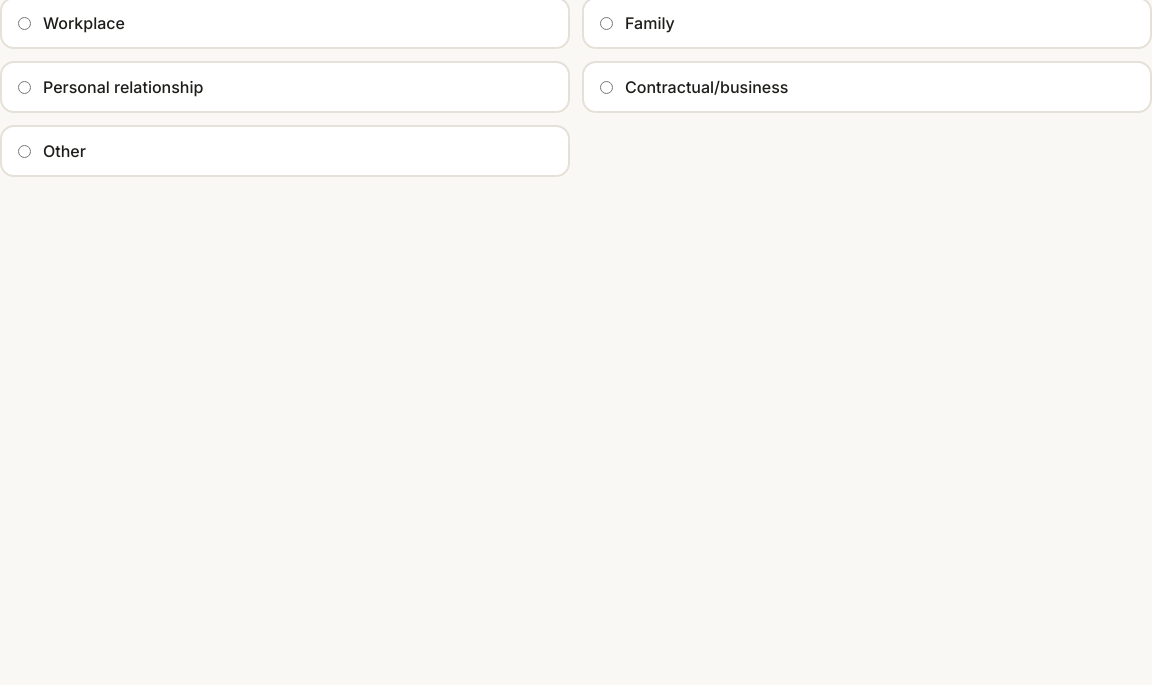
Test: AC5: Solo mode under Advanced expandable section › expanding Advanced reveals an unchecked solo checkbox
The width and height of the screenshot is (1152, 685).
Click the radio button labelled "Workplace".
click(24, 23)  # box [18,16,31,30]
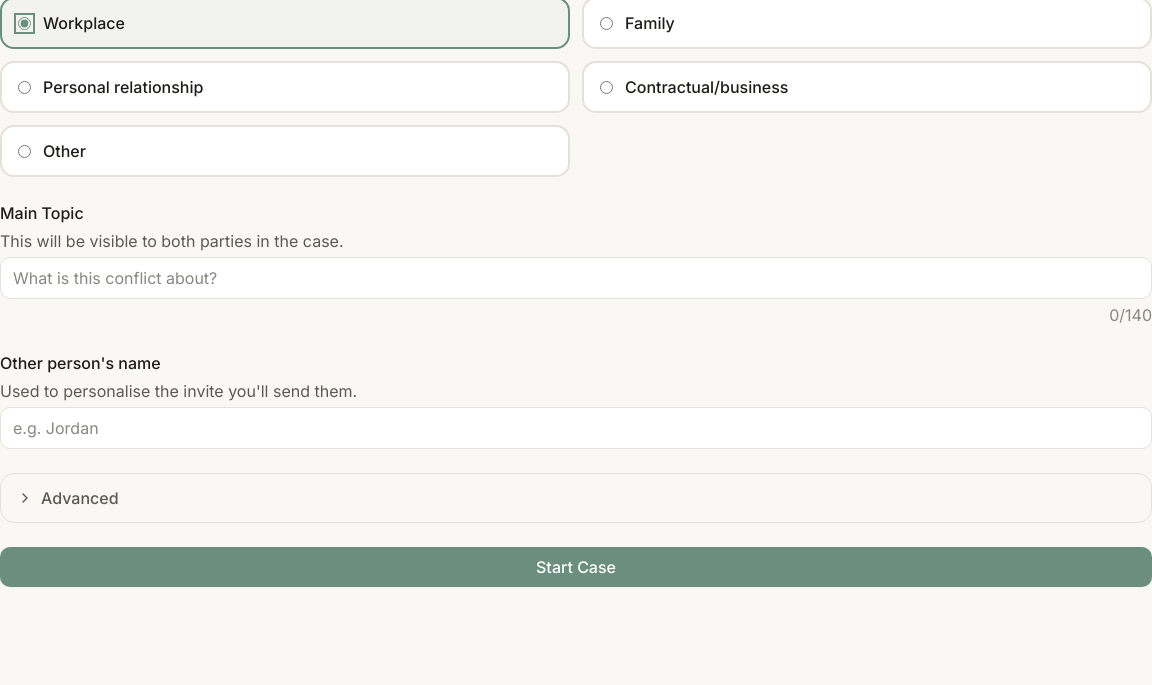
Type "Test topic" into the field labelled "Main Topic".
click(576, 278); type("Test topic")  # box [0,257,1151,299]
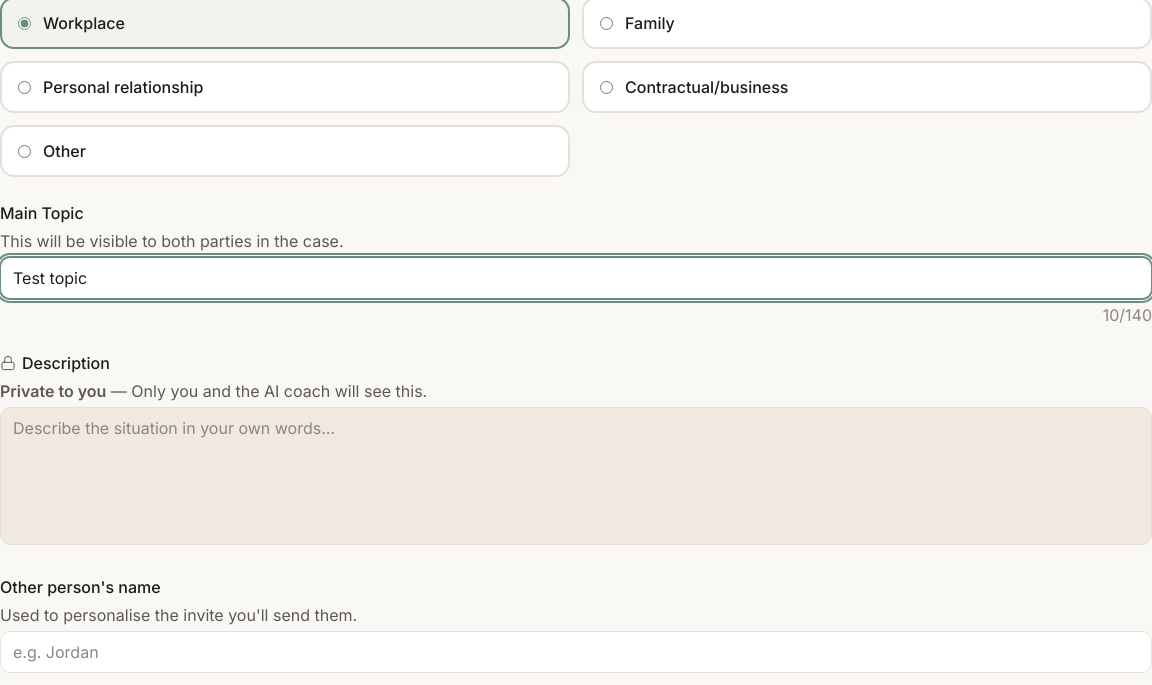
Type "Some description" into the text box labelled "Description".
click(576, 476); type("Some description")  # box [0,407,1151,545]
(page scrolled)
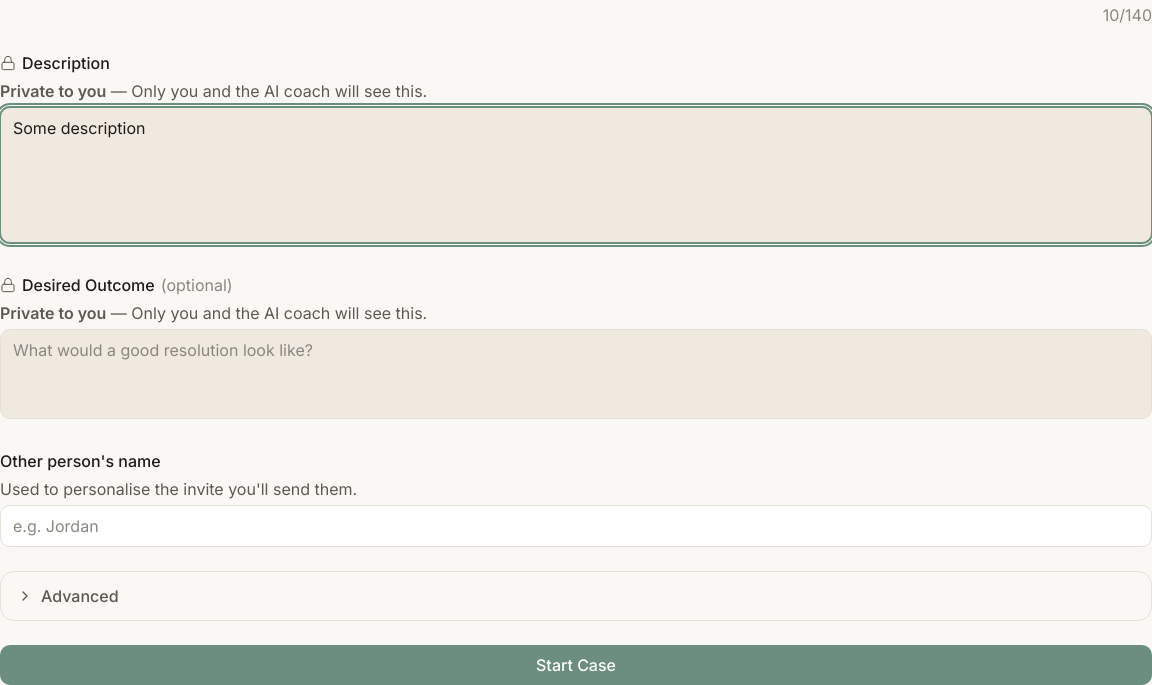
Type "Some outcome" into the text box labelled "Desired Outcome (optional)".
click(576, 374); type("Some outcome")  # box [0,329,1151,419]
(page scrolled)
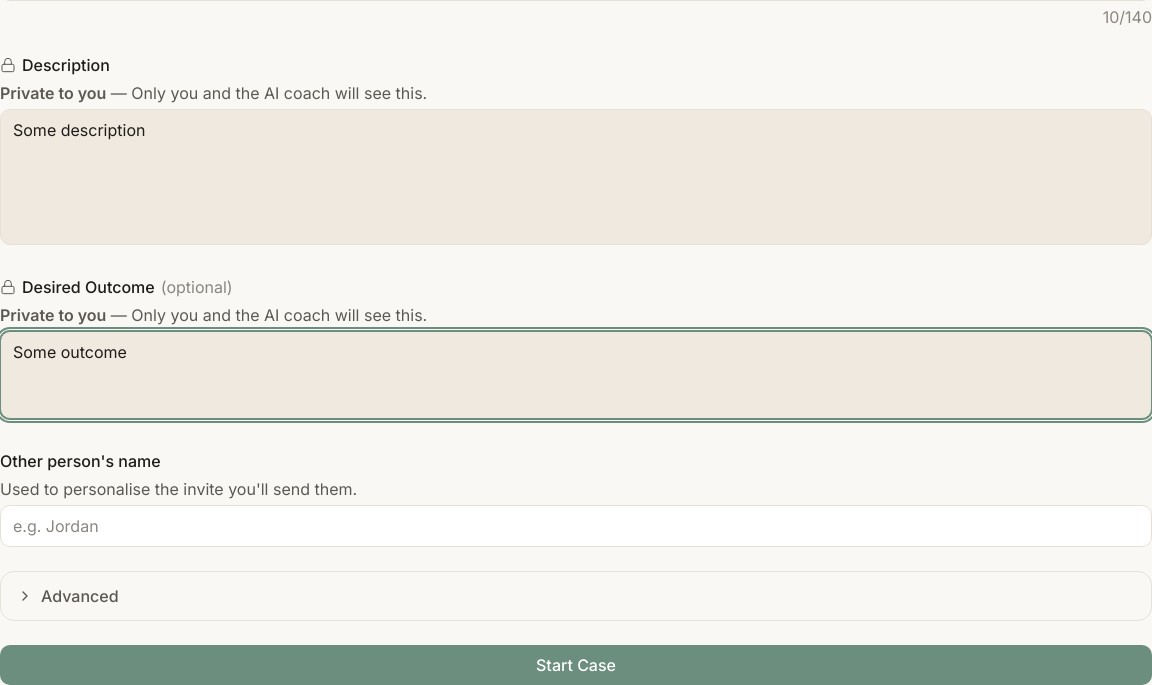
Click the button "Advanced".
click(80, 596)  # box [1,572,1151,620]
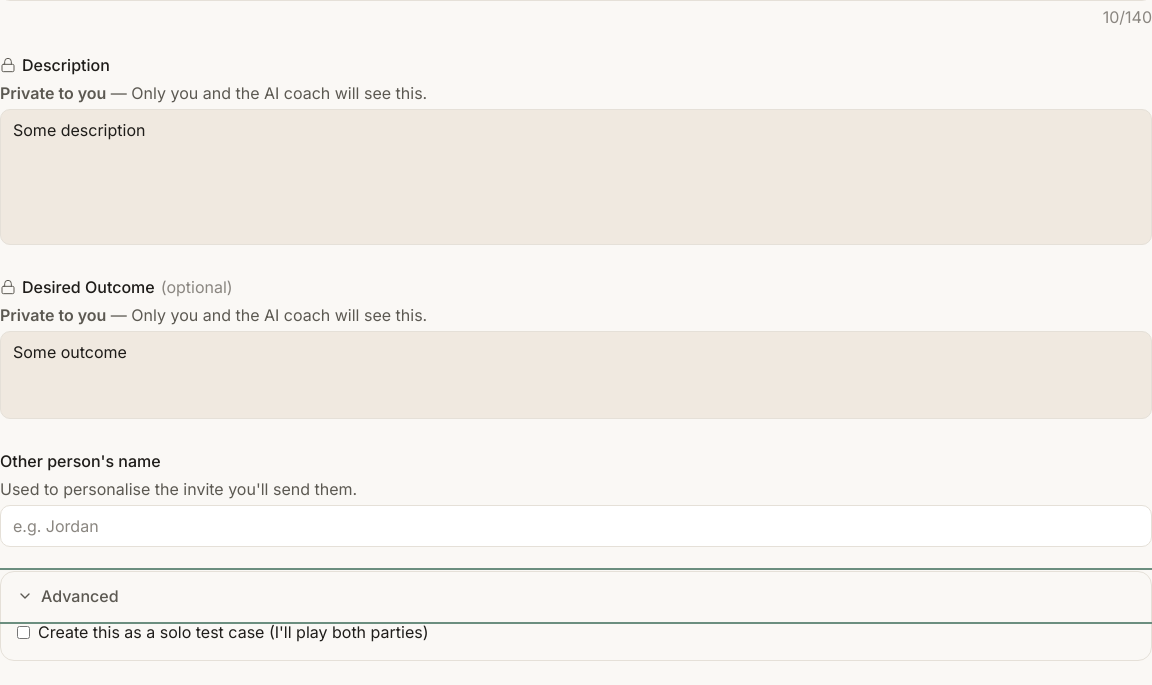
Result: the checkbox labelled "Create this as a solo test case (I'll play both parties)" is not checked at [17,626,30,638]
